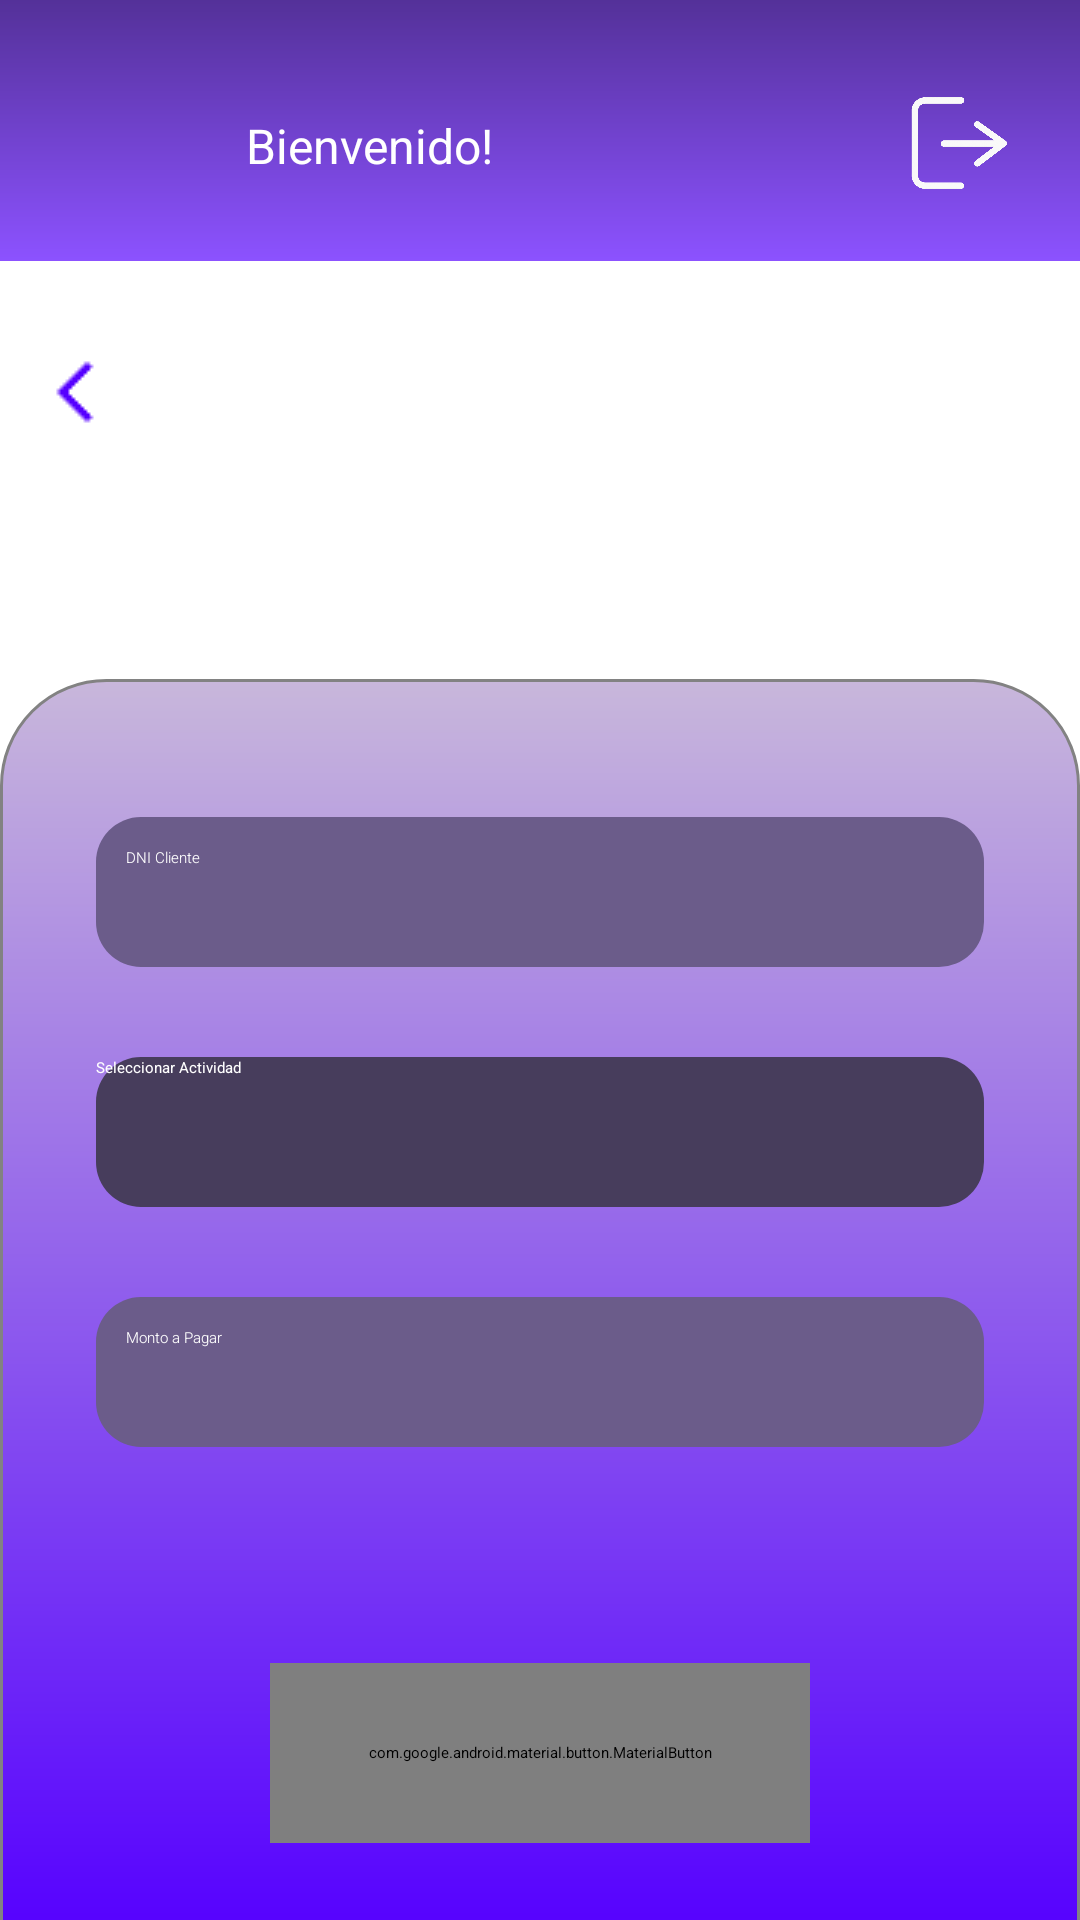

Screen size 1080 x 1920. Icon name, then its center in pixels as point (x, y):
back: point (75, 392)
salir: point (957, 145)
